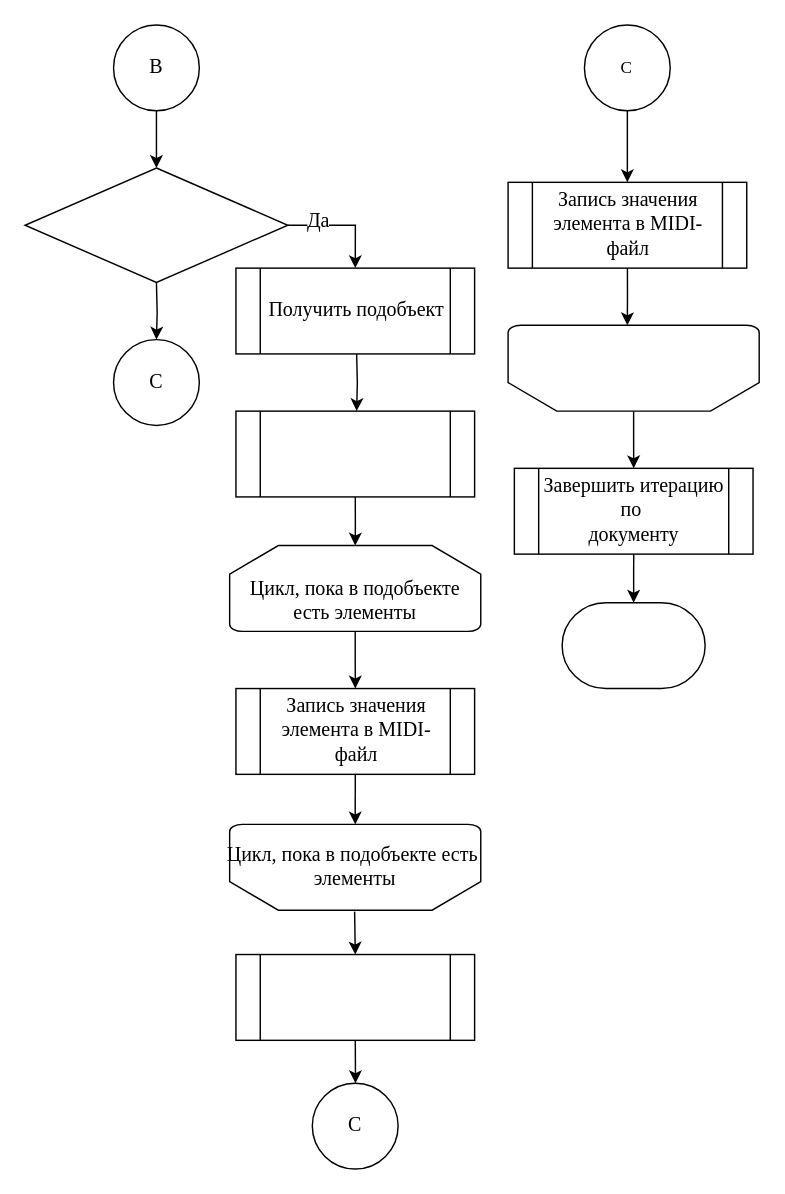
This 785x1194 diagram has some shape labels left out. The centre of each missing label's shape, as x and y in pixels:
Завершить итерацию по подобъекту: (355,996)
Конец: (633,645)
Начать итерацию по подобъекту: (355,453)
Тип элемента – это объект или массив?: (156,224)
Цикл, пока в документе есть элементы: (633,367)
